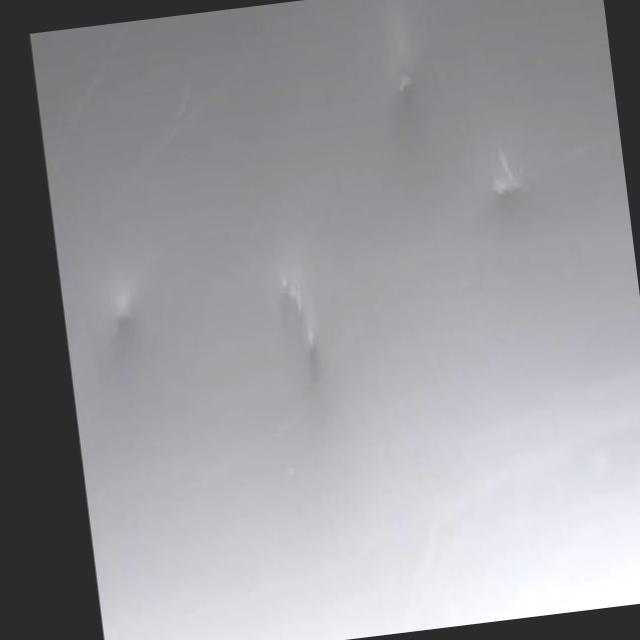dent: (263, 258, 333, 400), (458, 145, 540, 220), (92, 265, 148, 347), (377, 48, 427, 130)
